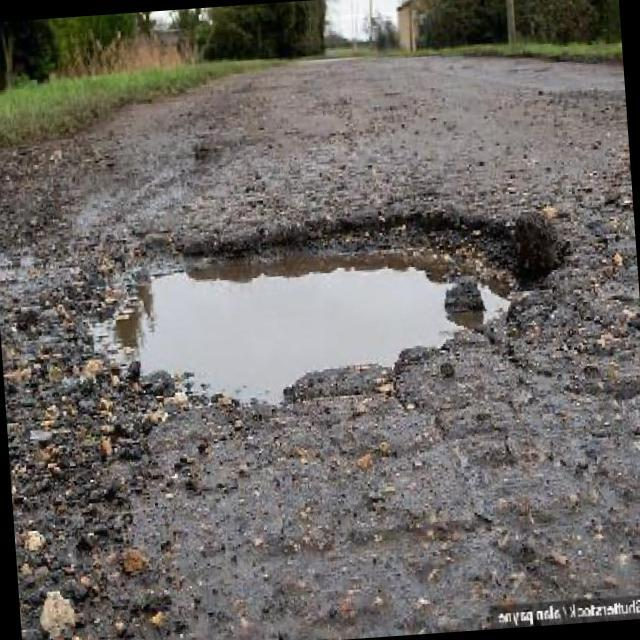Pothole: (93, 205, 569, 399)
